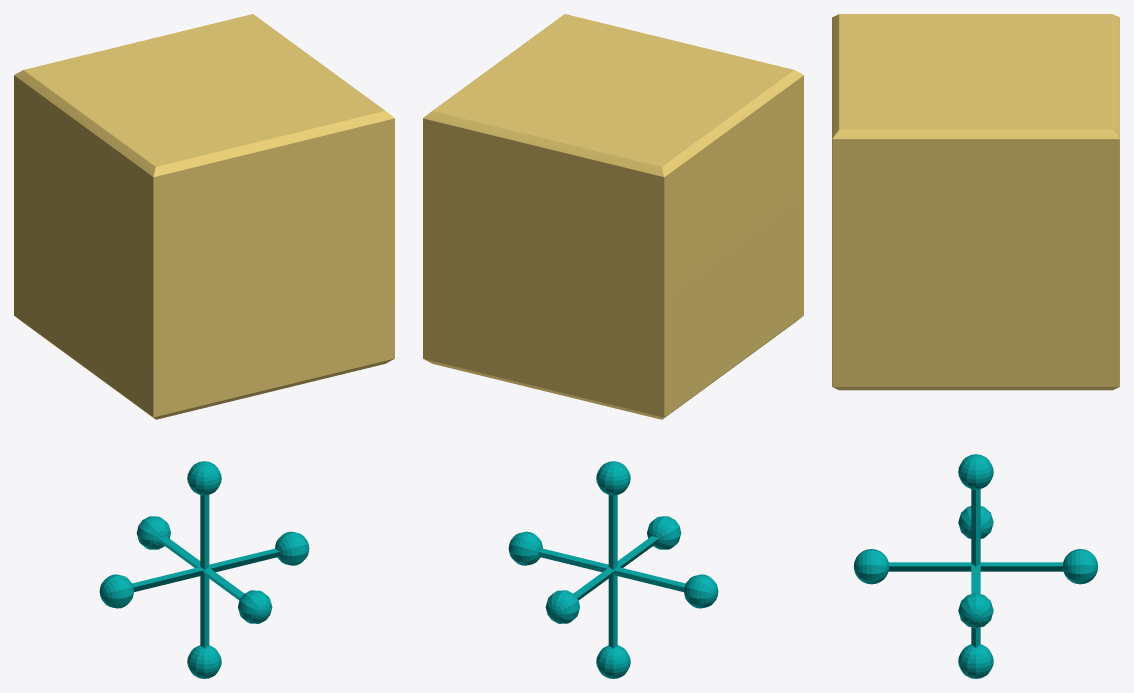
3 renders of one model, left to right at view 1: azimuth 30°, elevation 25°; view 2: azimuth 150°, elevation 25°; view 3: azimuth 270°, elevation 25°, orthographic. The views are drawn at different scales.
Visible parts, largest first — view 1: pCube31, pSphere16, pSphere14, pSphere15, pSphere13, pSphere12, pSphere11; view 2: pCube31, pSphere16, pSphere14, pSphere15, pSphere13, pSphere11, pSphere12; view 3: pCube31, pSphere11, pSphere12, pSphere16, pSphere13, pSphere15, pSphere14.
Boxes of the visible parts, x1=… form: pCube31: x1=14, y1=14, x2=394, y2=419; pSphere16: x1=187, y1=461, x2=221, y2=569; pSphere14: x1=99, y1=567, x2=203, y2=608; pSphere15: x1=187, y1=573, x2=221, y2=678; pSphere13: x1=209, y1=531, x2=309, y2=572; pSphere12: x1=203, y1=567, x2=272, y2=623; pSphere11: x1=136, y1=516, x2=200, y2=567; pCube31: x1=423, y1=14, x2=803, y2=419; pSphere16: x1=596, y1=461, x2=630, y2=569; pSphere14: x1=611, y1=567, x2=718, y2=608; pSphere15: x1=596, y1=573, x2=630, y2=678; pSphere13: x1=508, y1=531, x2=611, y2=572; pSphere11: x1=545, y1=567, x2=615, y2=623; pSphere12: x1=616, y1=516, x2=681, y2=568; pCube31: x1=832, y1=14, x2=1119, y2=390; pSphere11: x1=977, y1=549, x2=1098, y2=584; pSphere12: x1=853, y1=549, x2=971, y2=584; pSphere16: x1=958, y1=454, x2=993, y2=566; pSphere13: x1=958, y1=564, x2=993, y2=628; pSphere15: x1=958, y1=627, x2=993, y2=678; pSphere14: x1=958, y1=506, x2=993, y2=564.
Size of the model in its own units: 11.13 by 25.82 by 11.13.
